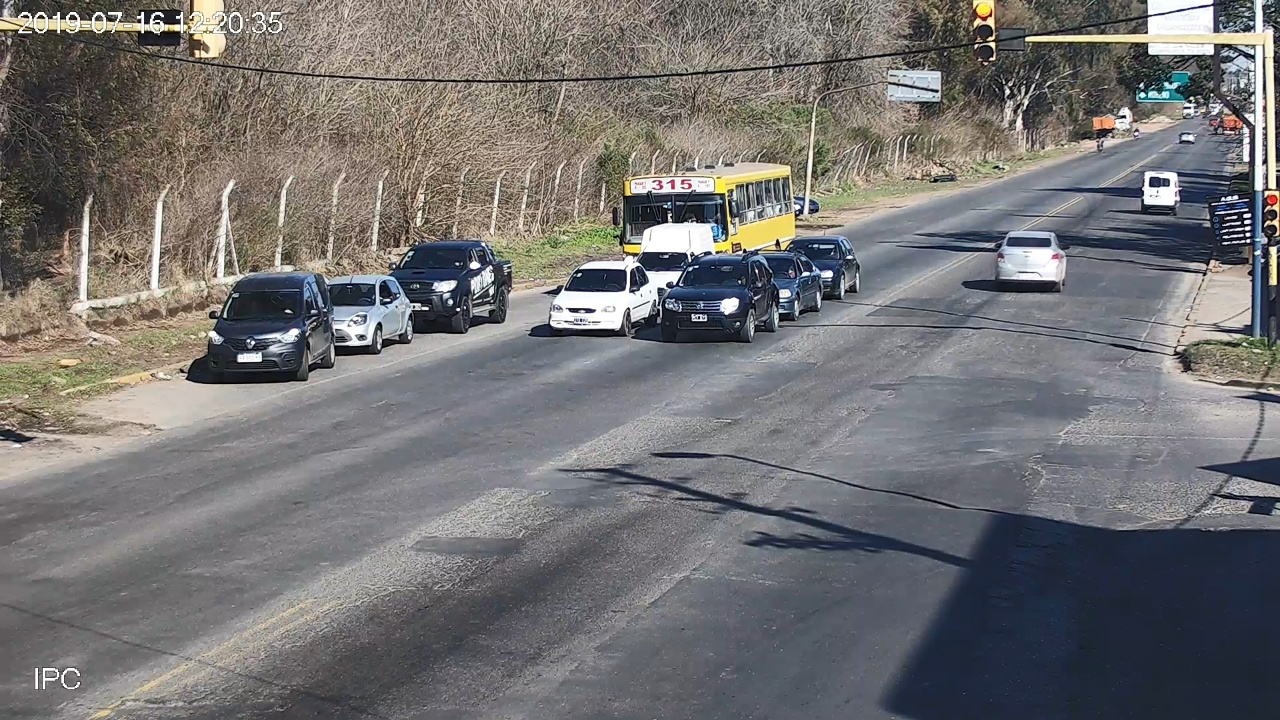car: (995, 232, 1069, 292)
front car: (208, 273, 335, 380), (664, 254, 779, 343)
traffic light: (974, 1, 995, 61), (1263, 190, 1279, 239)
